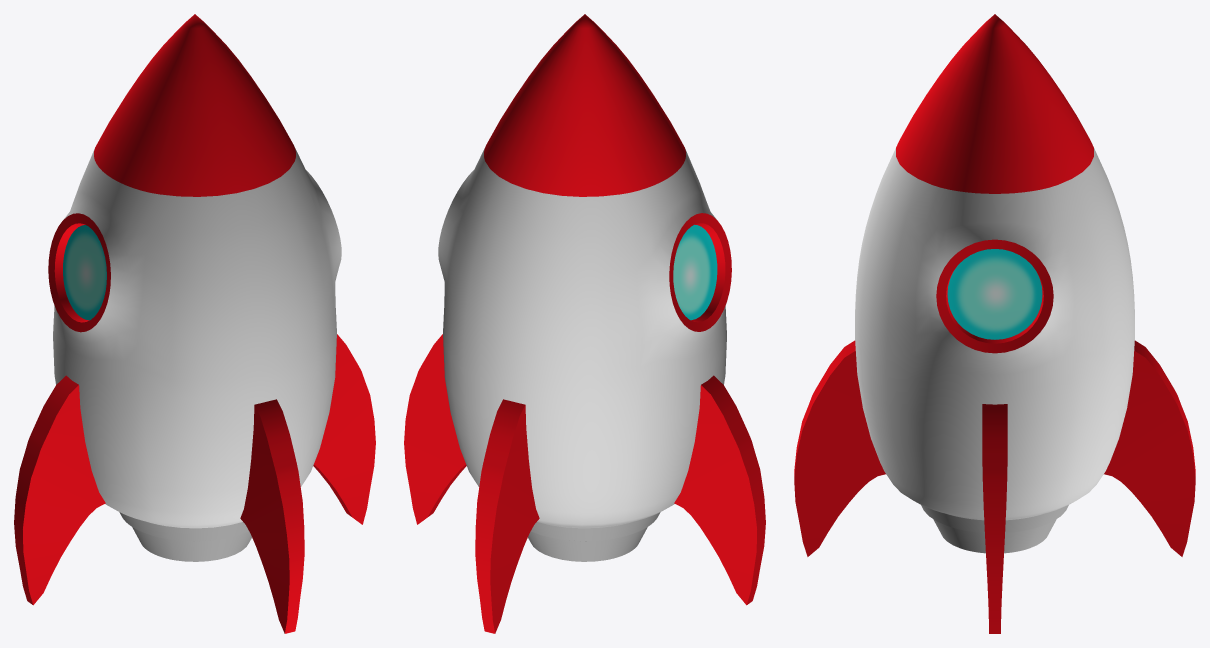
The model's file is cartoon_rocket_ship.obj.
3 views of the same model, side by side, from view 1: azimuth 30°, elevation 25°; view 2: azimuth 150°, elevation 25°; view 3: azimuth 270°, elevation 25° (orthographic).
Visible parts, largest first — view 1: obj1; view 2: obj1; view 3: obj1.
Part boxes in pixels (left/top/right/bottom): obj1: left=14, top=14, right=375, bottom=633; obj1: left=404, top=14, right=765, bottom=633; obj1: left=794, top=14, right=1195, bottom=633.
Bounding box in the file's own units: 2.21 × 3.28 × 2.21.
1 material, 1 textured.
